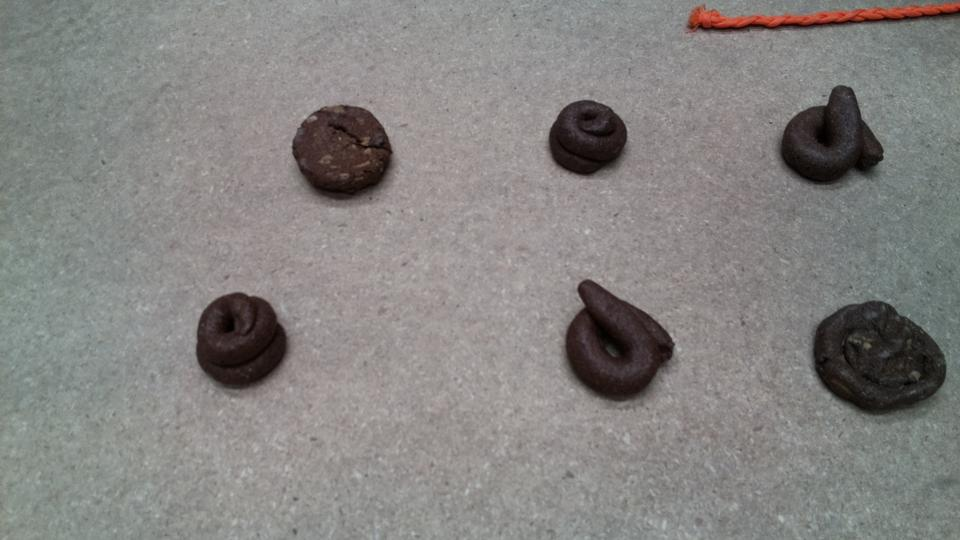poop: (810, 296, 949, 417), (562, 277, 678, 404), (778, 81, 887, 187), (289, 100, 396, 201), (194, 287, 292, 393), (546, 96, 632, 177)
rope: (683, 1, 960, 36)
